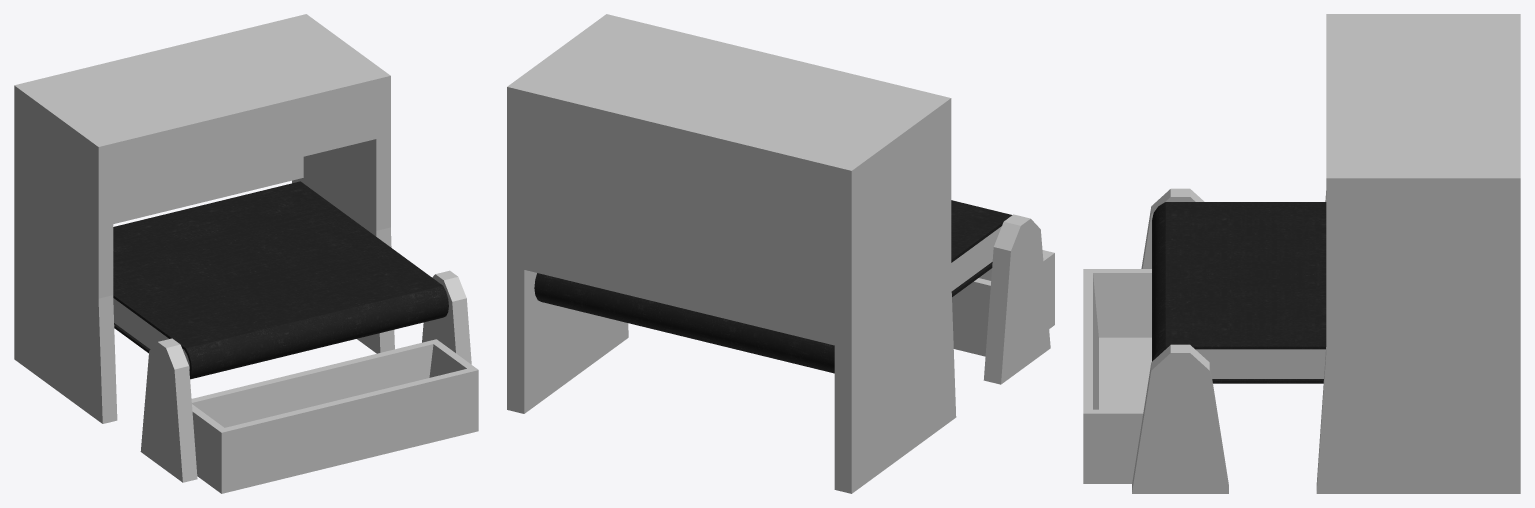
Rendered from TrashDispenser.fbx.
3 renders of one model, left to right at view 1: azimuth 30°, elevation 25°; view 2: azimuth 150°, elevation 25°; view 3: azimuth 270°, elevation 25°, orthographic. The views are drawn at different scales.
Parts seen in each view (by area): view 1: TrashDispenser; view 2: TrashDispenser; view 3: TrashDispenser.
Part boxes in pixels (box(x1,y1,x2,y2)): TrashDispenser: box(14, 14, 478, 493); TrashDispenser: box(507, 14, 1054, 493); TrashDispenser: box(1083, 14, 1520, 493).
Bounding box in the file's own units: 200 × 179 × 225.
